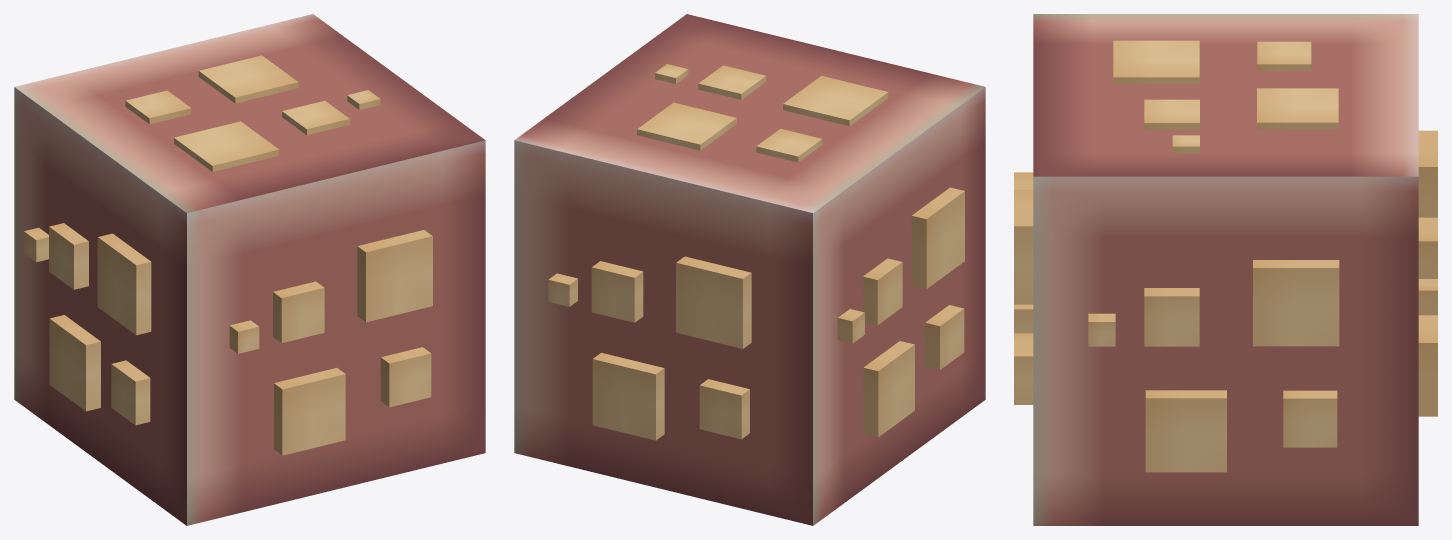
The model's file is Iron_Ore.fbx.
3 renders of one model, left to right at view 1: azimuth 30°, elevation 25°; view 2: azimuth 150°, elevation 25°; view 3: azimuth 270°, elevation 25°, orthographic. The views are drawn at different scales.
Visible parts, largest first — view 1: Iron_Ore; view 2: Iron_Ore; view 3: Iron_Ore.
Part boxes in pixels (x1,y1,x2,y2): Iron_Ore: (14, 14, 485, 525); Iron_Ore: (514, 14, 985, 525); Iron_Ore: (1014, 14, 1437, 525).
Size of the model in its own units: 27.5 by 27.5 by 27.5.
1 material, 1 textured.
